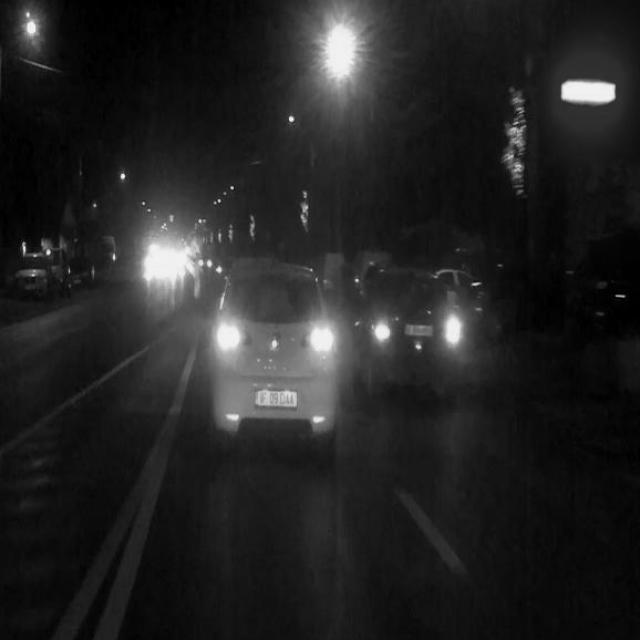licenseplate: (252, 385, 299, 410)
